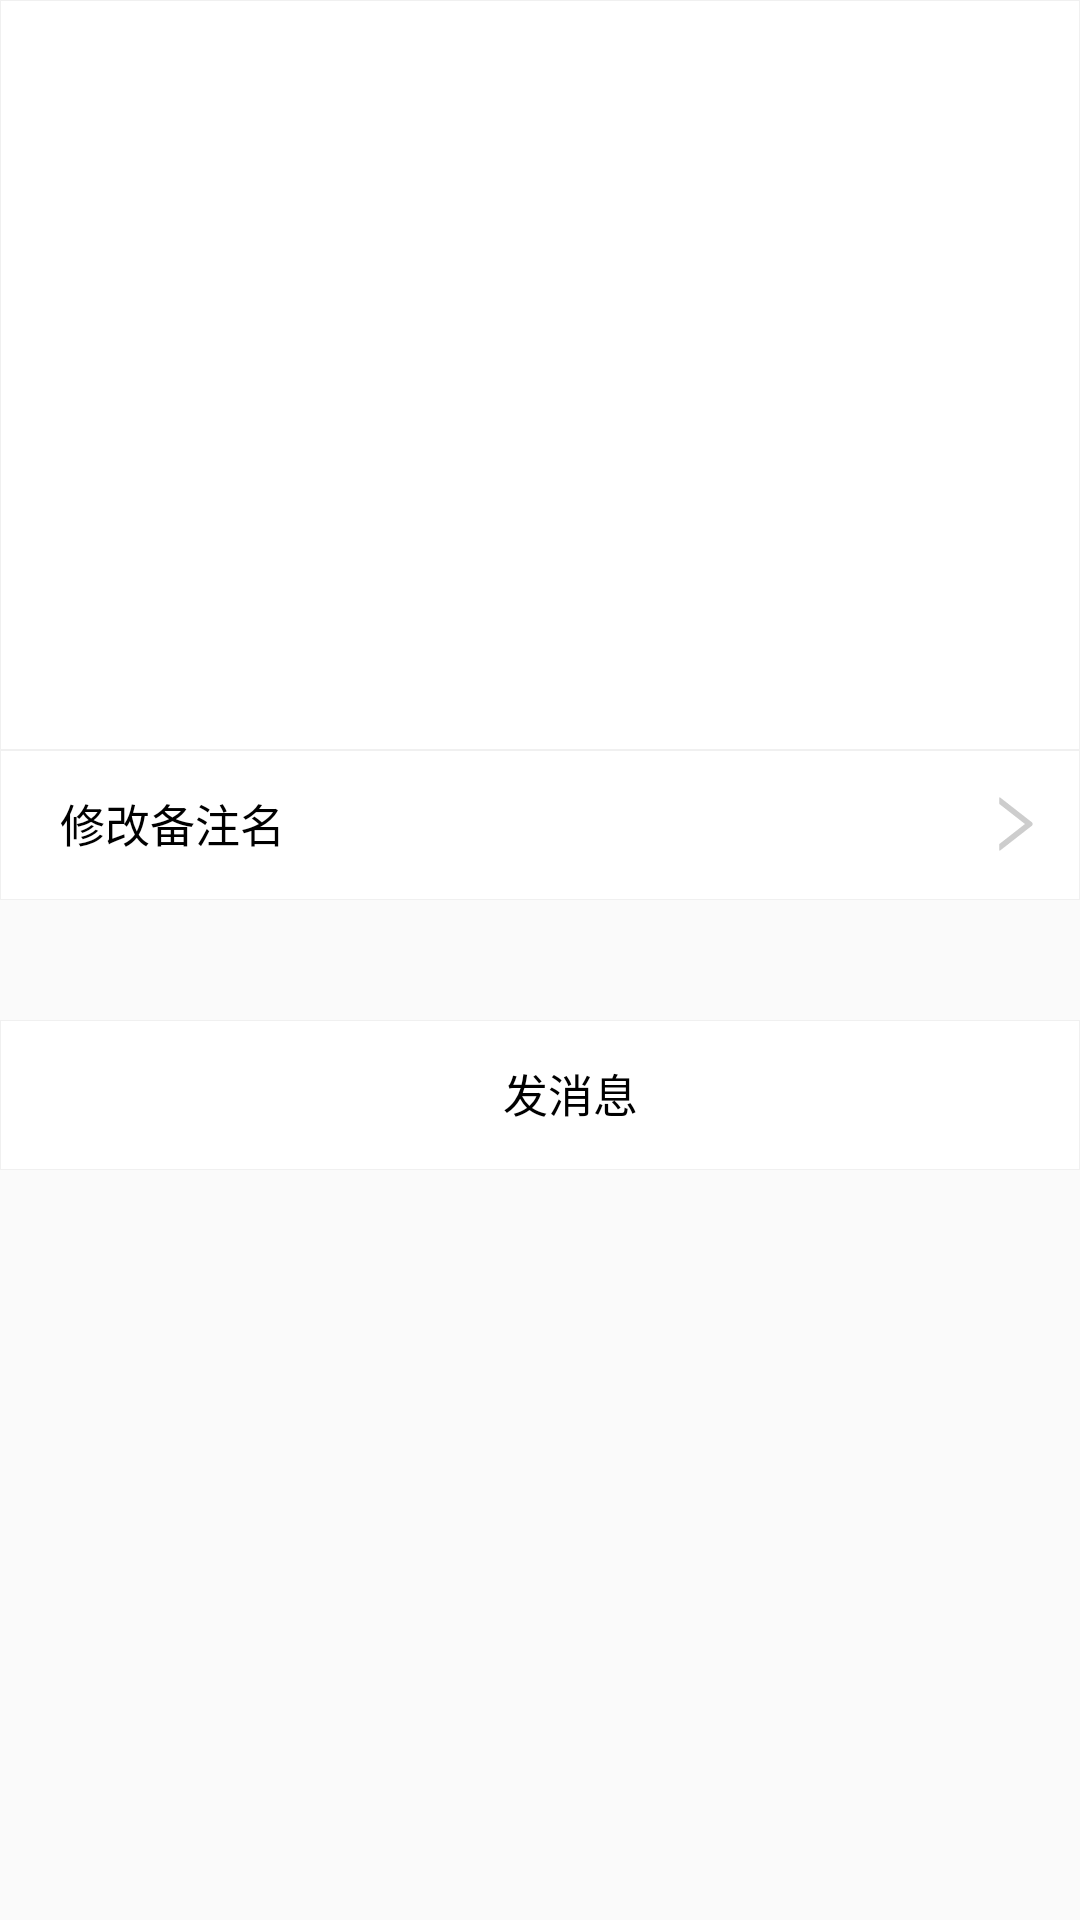

Icon bounding boxes for this 1080 × 1920 phone screenshot, format (x1,y1,x2,y2):
right: (999,798,1033,850)
